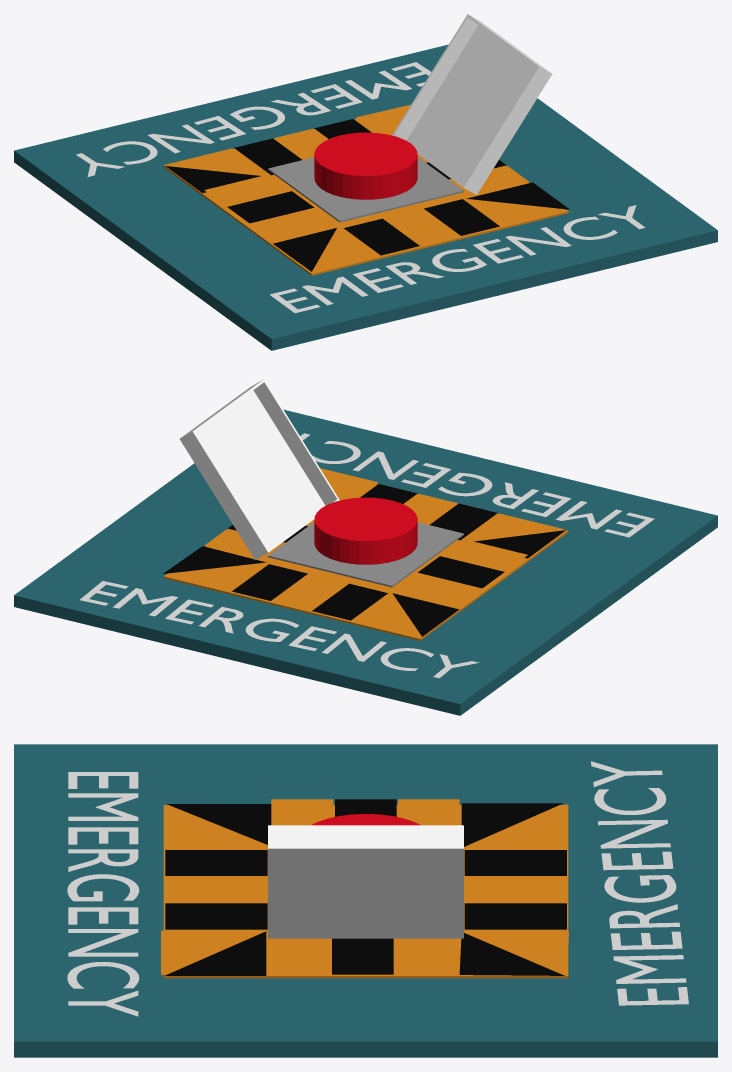
File: asset.glb
3 views of the same model, one above another, from view 1: azimuth 30°, elevation 25°; view 2: azimuth 150°, elevation 25°; view 3: azimuth 270°, elevation 25° (orthographic). The views are drawn at different scales.
Visible parts, largest first — view 1: Cube.003, Cube.002, Cylinder, Cube, Cube.001, Text, Text.001, Plane, Plane.002, Plane.001, Plane.004, Plane.003 (+12 smaller); view 2: Cube.003, Cube.002, Cylinder, Cube, Cube.001, Text.001, Text, Plane, Plane.001, Plane.002, Plane.010, Plane.011 (+12 smaller); view 3: Cube.003, Cube.002, Text, Text.001, Cube, Plane.003, Plane.004, Plane.009, Plane.010, Plane.005, Plane.011, Plane.017 (+14 smaller).
Boxes of the visible parts, x1,y1,x2,y2 form: Cube.003: (14,44,717,350); Cube.002: (392,14,552,194); Cylinder: (314,132,417,199); Cube: (163,118,568,275); Cube.001: (268,157,463,222); Text: (269,205,645,313); Text.001: (76,62,431,176); Plane: (251,208,337,240); Plane.002: (204,174,291,206); Plane.001: (227,191,313,223); Plane.004: (383,209,459,245); Plane.003: (424,199,499,235); Cube.003: (14,409,717,715); Cube.002: (179,379,339,559); Cylinder: (314,497,417,564); Cube: (163,484,568,640); Cube.001: (268,522,463,587); Text.001: (80,581,479,678); Text: (300,433,654,537); Plane: (441,539,527,571); Plane.001: (418,556,504,588); Plane.002: (395,573,481,605); Plane.010: (272,574,348,610); Plane.011: (312,583,387,620); Cube.003: (14,744,717,1057); Cube.002: (268,825,463,938); Text: (67,772,139,1016); Text.001: (591,761,688,1005); Cube: (163,805,568,978); Plane.003: (165,903,267,929); Plane.004: (165,876,267,902); Plane.009: (464,903,566,929); Plane.010: (464,876,566,902); Plane.005: (165,850,267,875); Plane.011: (464,850,566,875); Plane.017: (161,930,262,975).
Bounding box in the file's own units: 6.86 × 1.91 × 6.86.
